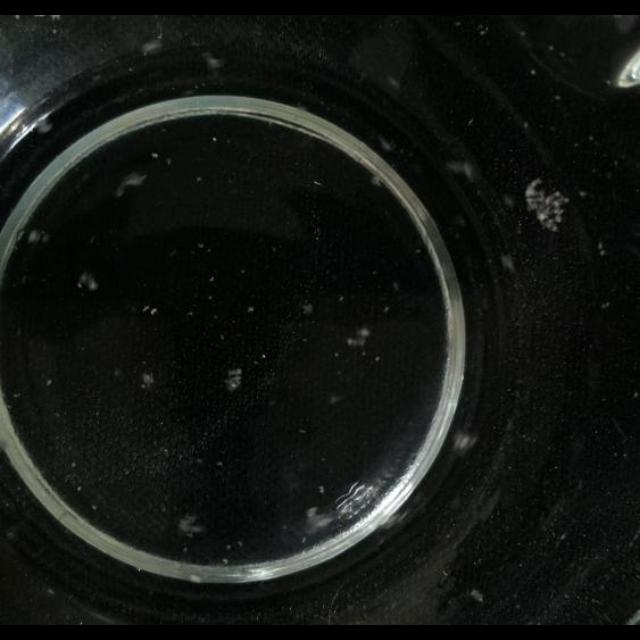Fibre: (523, 182, 571, 232), (114, 171, 148, 197), (304, 506, 334, 532), (446, 158, 476, 182), (226, 367, 248, 395), (178, 514, 205, 536), (452, 429, 476, 453), (350, 328, 372, 350), (77, 271, 99, 291), (201, 51, 223, 70), (141, 38, 163, 56), (26, 229, 50, 245), (376, 135, 396, 153), (500, 253, 516, 273), (35, 119, 53, 135), (140, 370, 154, 390), (370, 172, 386, 188), (469, 589, 485, 603), (140, 304, 158, 316), (328, 393, 344, 405), (598, 242, 608, 258), (301, 303, 313, 315)
